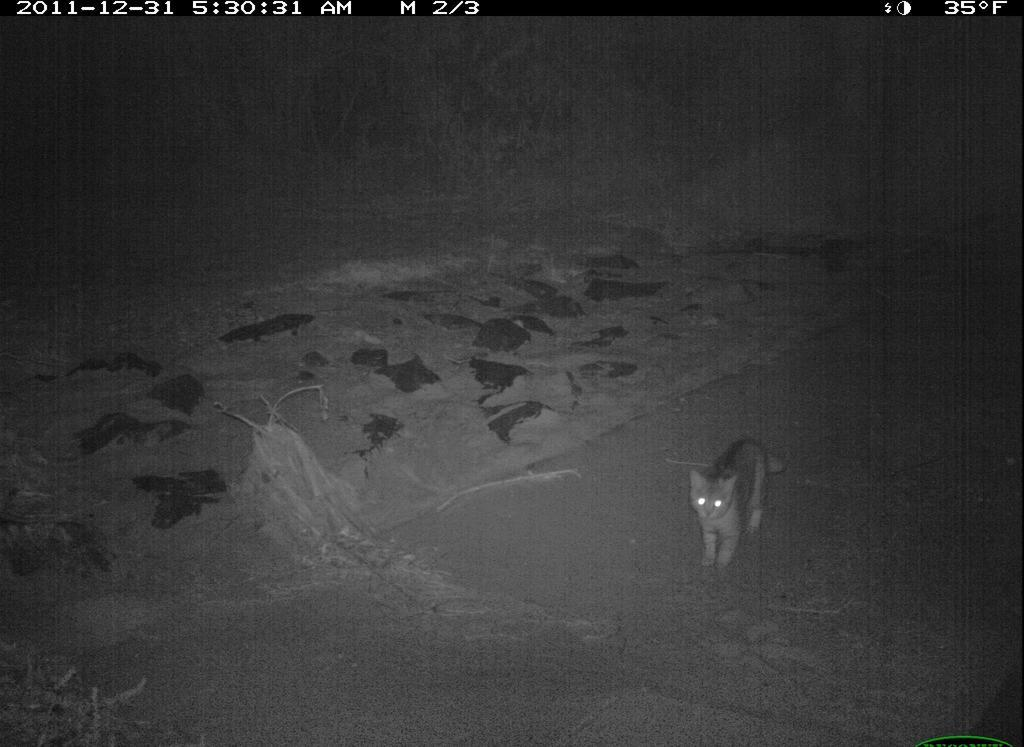cat: (685, 432, 793, 577)
